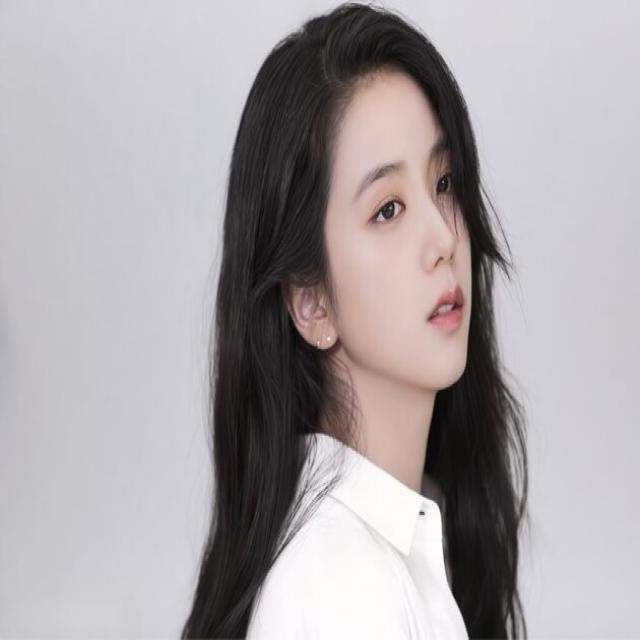Nonhelmet: (267, 19, 506, 404)
